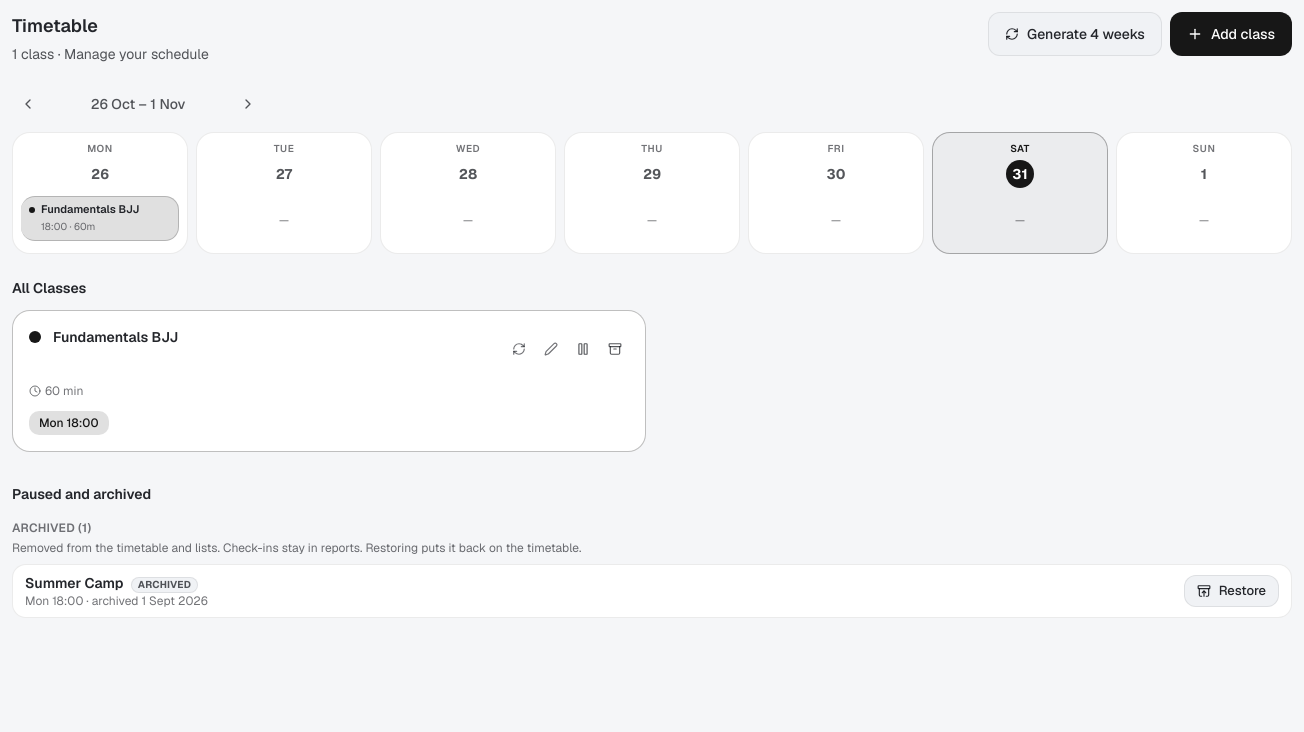
Pause, Resume and Restore › Restore brings an archived class back and says Restored
The image size is (1304, 732).
Click the button with aria-label "Restore Summer Camp". click: (1231, 591)
box: [1184,575,1279,607]
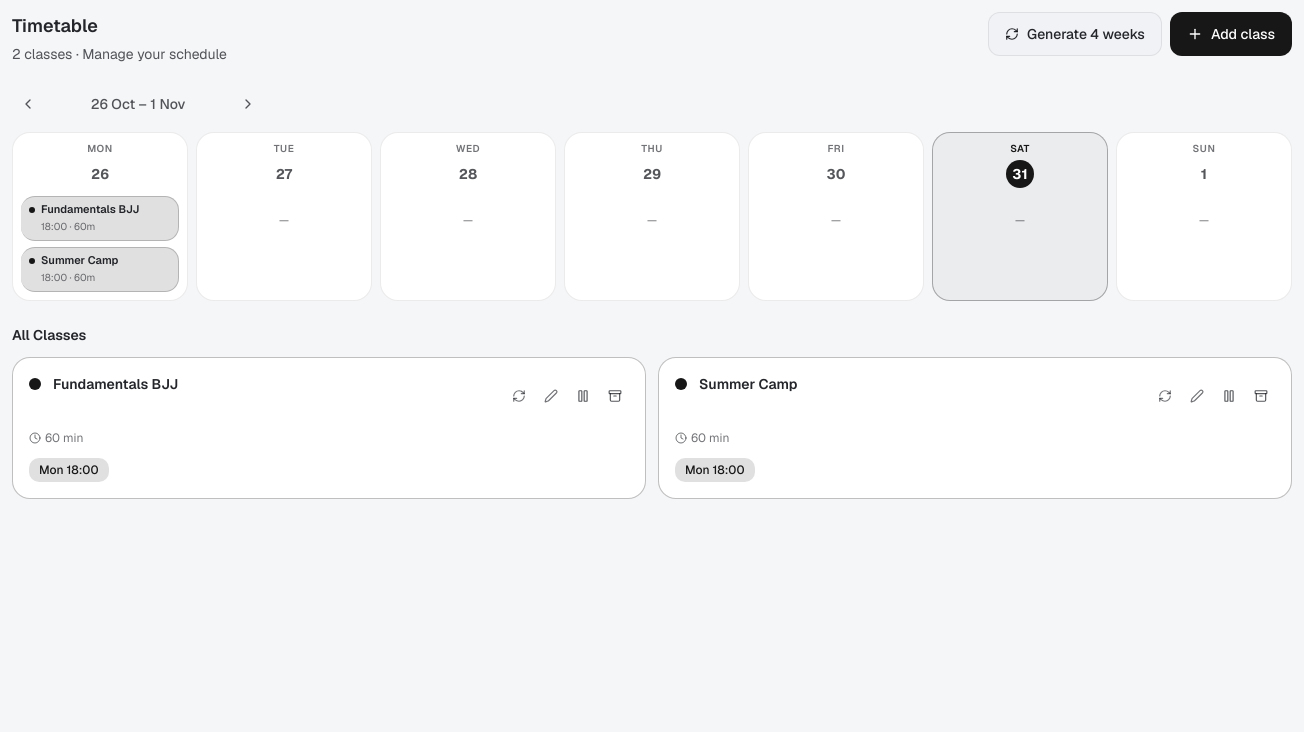
expect the button with aria-label "Edit Summer Camp" is shown: met, box [21,247,179,292]
